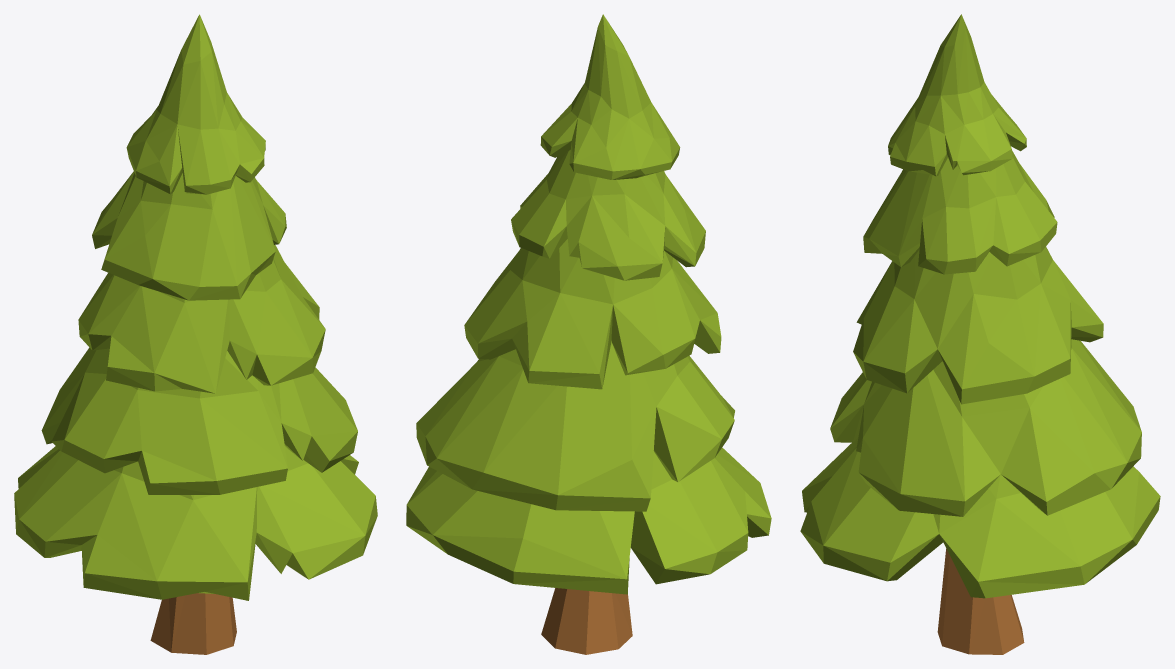
File: tree_09.glb
3 views of the same model, side by side, from view 1: azimuth 30°, elevation 25°; view 2: azimuth 150°, elevation 25°; view 3: azimuth 270°, elevation 25° (orthographic). The views are drawn at different scales.
Parts seen in each view (by area): view 1: Lowpoly_Tree_09_Material.004_0, Lowpoly_Tree_09_Material_0; view 2: Lowpoly_Tree_09_Material.004_0, Lowpoly_Tree_09_Material_0; view 3: Lowpoly_Tree_09_Material.004_0, Lowpoly_Tree_09_Material_0.
Boxes of the visible parts, box(x1,y1,x2,y2) form: Lowpoly_Tree_09_Material.004_0: box(14, 14, 377, 600); Lowpoly_Tree_09_Material_0: box(150, 593, 236, 654); Lowpoly_Tree_09_Material.004_0: box(406, 14, 771, 594); Lowpoly_Tree_09_Material_0: box(541, 588, 632, 654); Lowpoly_Tree_09_Material.004_0: box(800, 14, 1160, 598); Lowpoly_Tree_09_Material_0: box(937, 548, 1024, 654).
Size of the model in its own units: 0.9994 by 1.89 by 0.9921.
